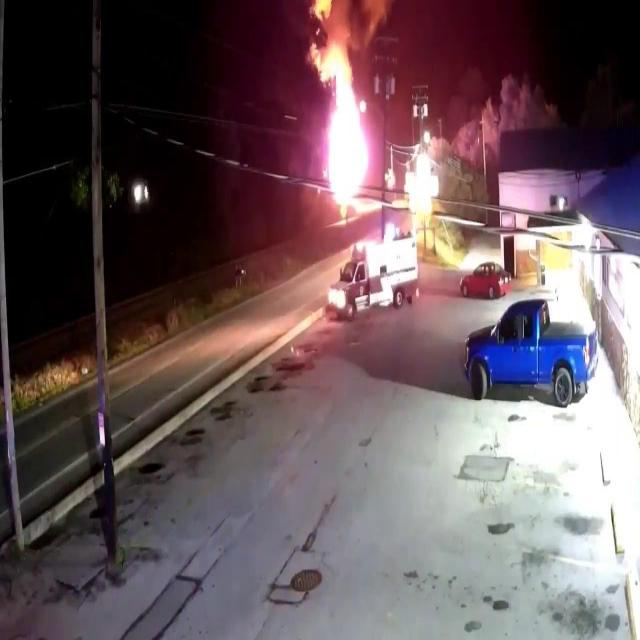Fire: (314, 42, 370, 196)
